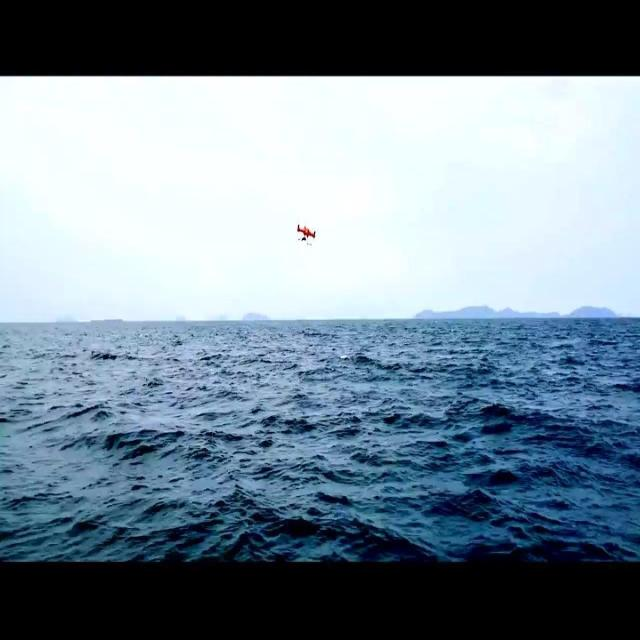drone: (295, 224, 319, 247)
